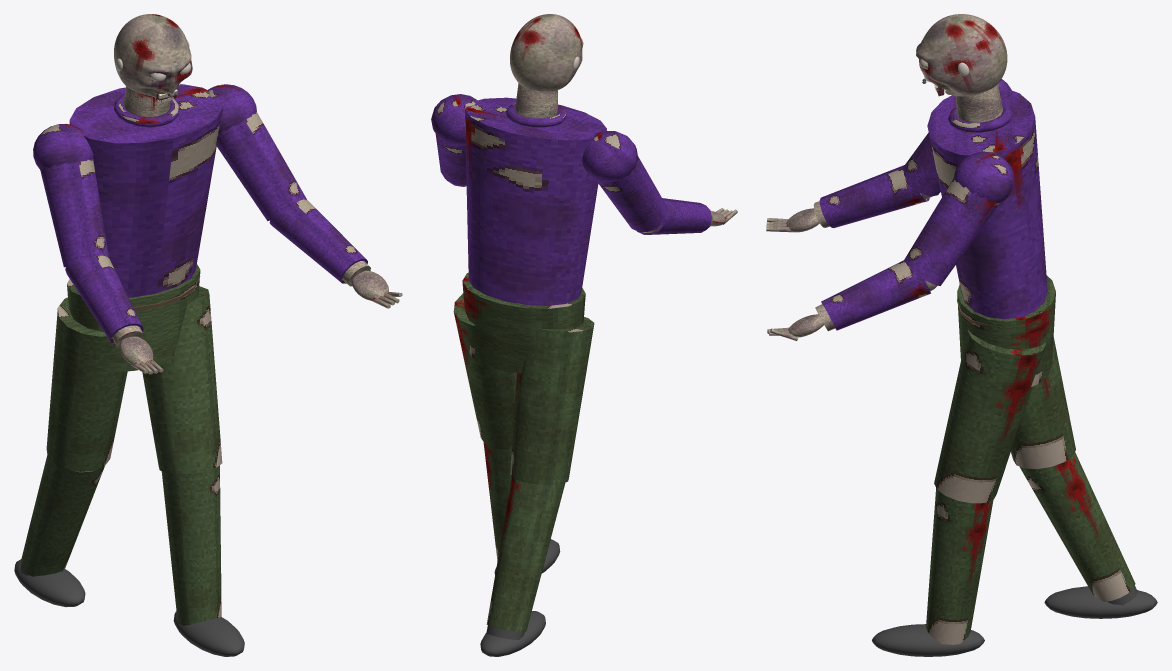
The model's file is Zombie_079.glb.
3 views of the same model, side by side, from view 1: azimuth 30°, elevation 25°; view 2: azimuth 150°, elevation 25°; view 3: azimuth 270°, elevation 25° (orthographic). The views are drawn at different scales.
Parts seen in each view (by area): view 1: Zombie_079, object 18, object 12, object 4, object 13, object 5; view 2: Zombie_079, object 18, object 4; view 3: Zombie_079, object 18, object 12, object 4, object 5.
Boxes of the visible parts, left/top/right/bottom form: Zombie_079: left=14, top=83, right=306, bottom=656; object 18: left=114, top=14, right=192, bottom=97; object 12: left=269, top=198, right=367, bottom=283; object 4: left=65, top=255, right=143, bottom=344; object 13: left=351, top=270, right=388, bottom=300; object 5: left=119, top=336, right=153, bottom=364; Zombie_079: left=431, top=83, right=668, bottom=656; object 18: left=510, top=14, right=583, bottom=91; object 4: left=637, top=198, right=711, bottom=234; Zombie_079: left=872, top=79, right=1157, bottom=656; object 18: left=916, top=14, right=1007, bottom=96; object 12: left=821, top=260, right=930, bottom=330; object 4: left=819, top=165, right=929, bottom=227; object 5: left=786, top=208, right=819, bottom=232.
Bounding box in the file's own units: 0.7595 × 1.72 × 0.989.
Materials: 15 (5 with a texture image).
